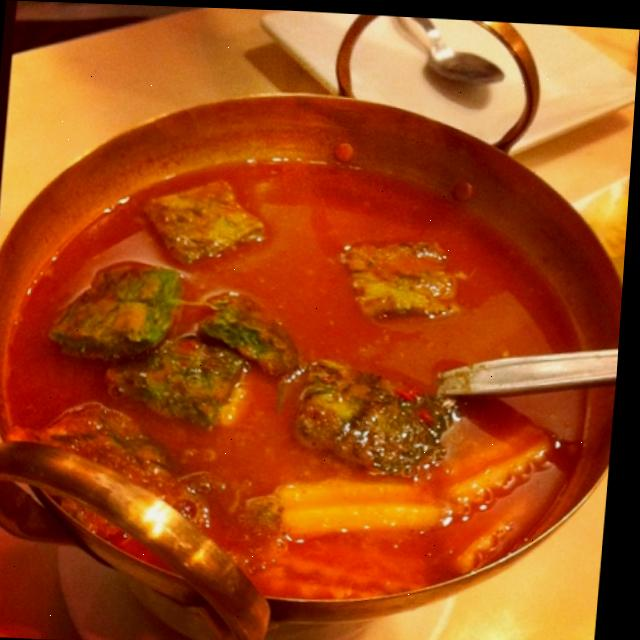汤锅炖物: (0, 80, 636, 618)
